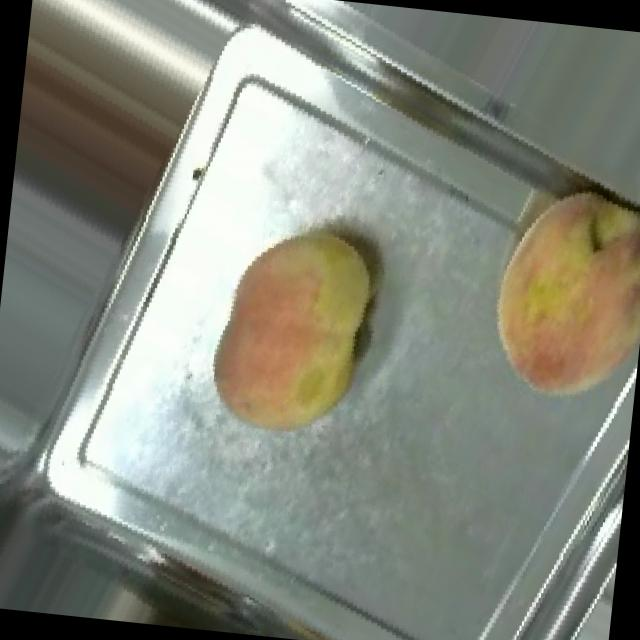Fruit: (174, 193, 412, 472), (8, 0, 246, 269), (450, 152, 640, 432)
